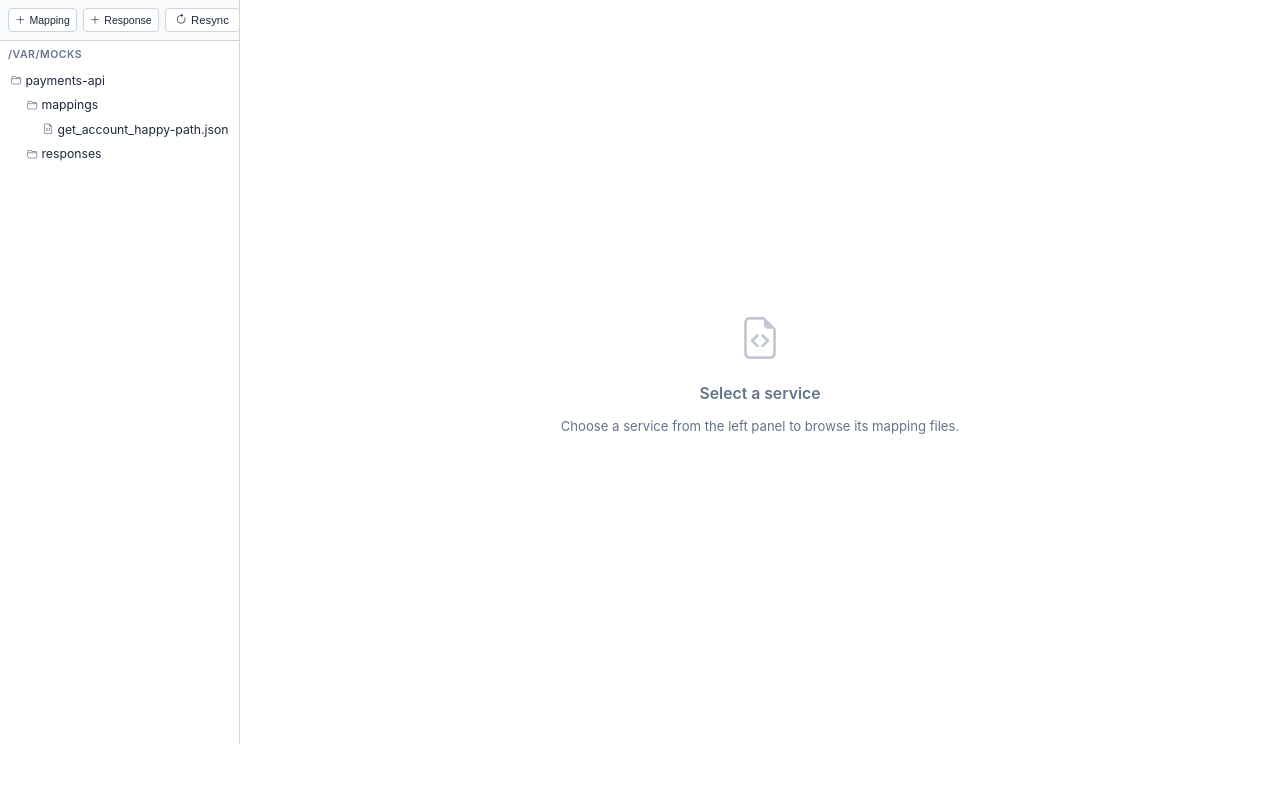
it: Story 4.2 — MappingsPage: Create files › AC-12: '+ New Mapping' button opens the file-naming modal
expect the button with test id "mappings-btn-new-mapping" is shown: met, box [8,8,77,32]
First select a service so the service-selection step is skipped
What coordinates should you click on to do the following:
click the text "payments-api"
I would click on:
 (65, 80)
Its box is [25,73,105,88].
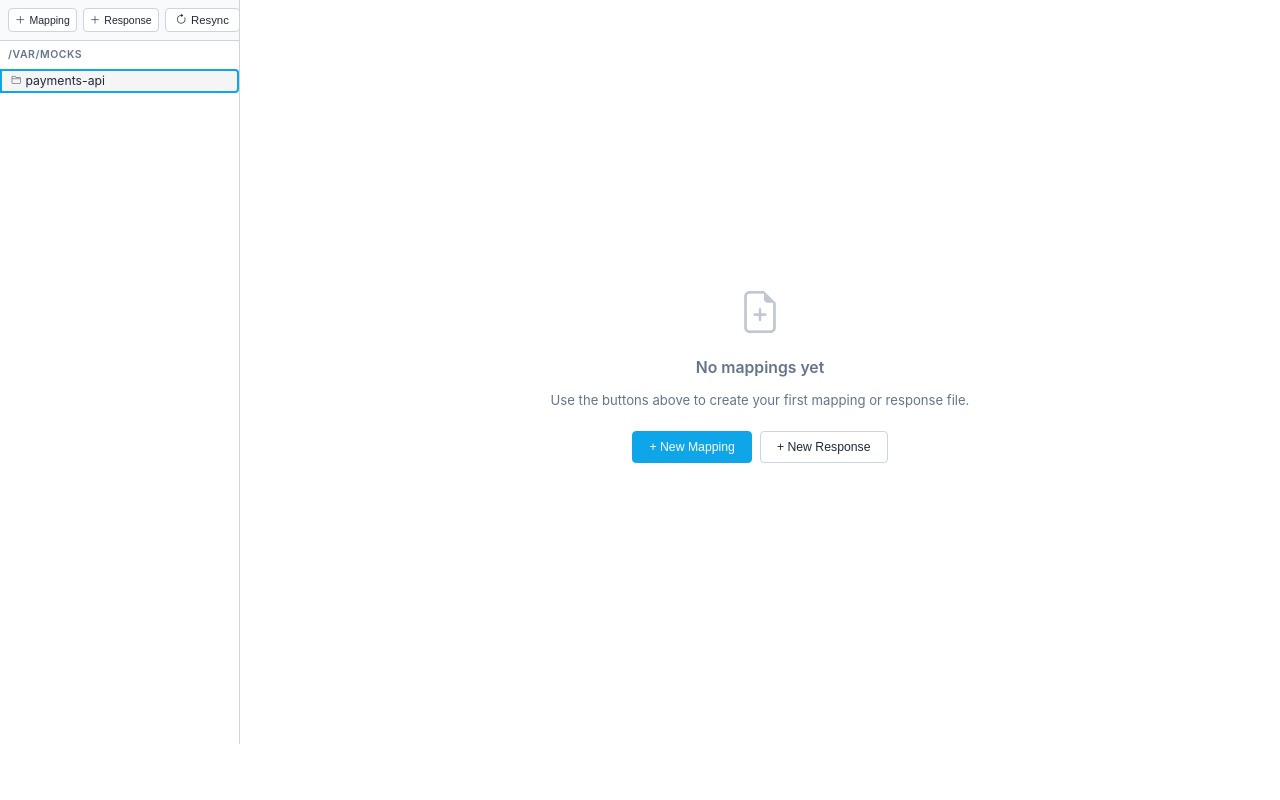
What coordinates should you click on to do the following:
click the button with test id "mappings-btn-new-mapping"
I would click on:
 (42, 20)
Its box is [8,8,77,32].
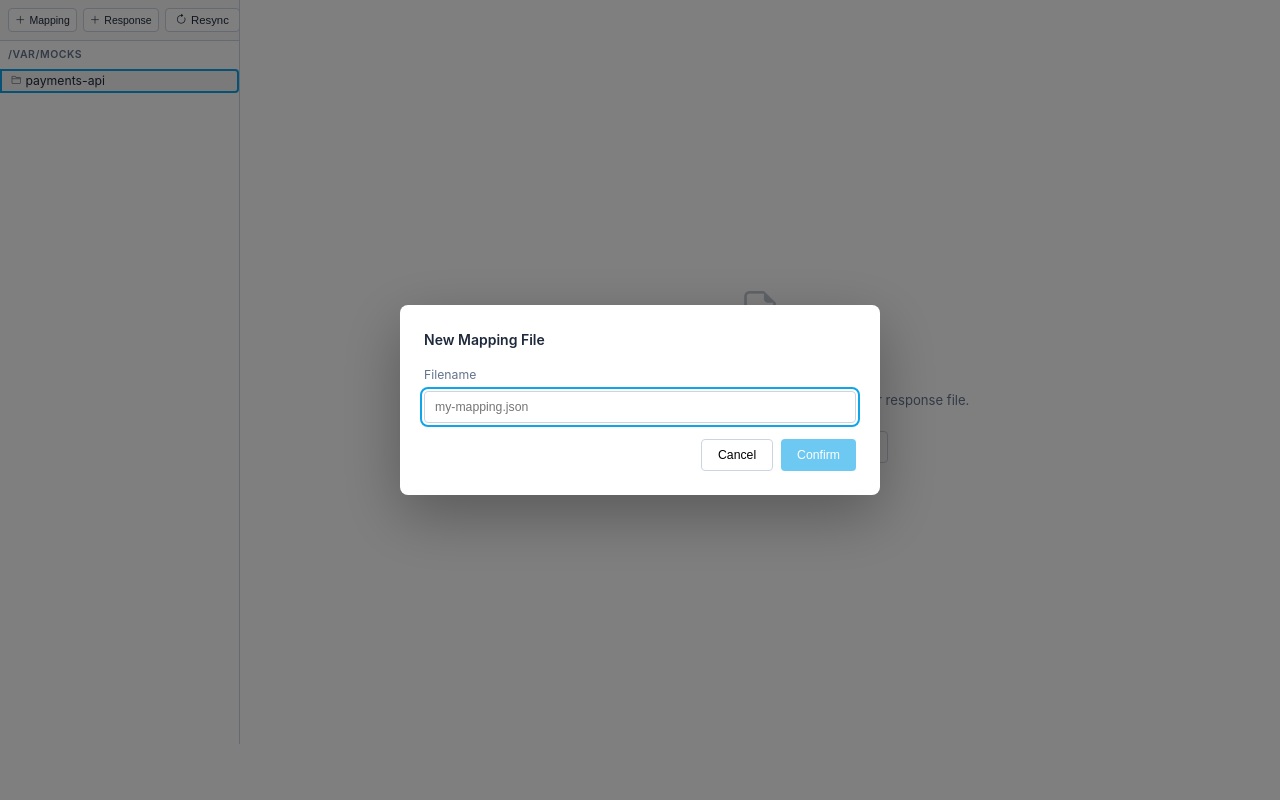
expect the dialog with test id "mappings-modal-file-name" is shown: met
expect the field with test id "mappings-input-filename" is shown: met, box [424,391,856,423]
